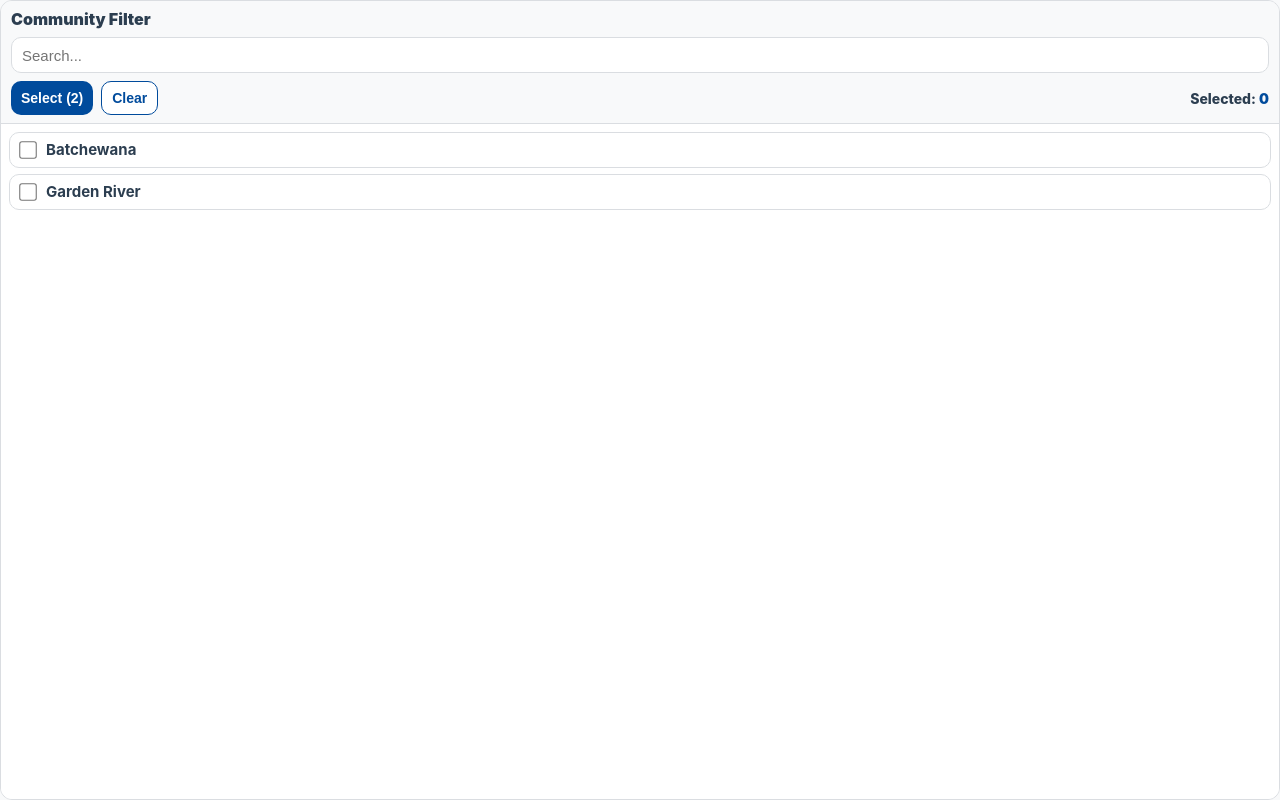
Test: CommunityFilter › shows empty message when no communities match query
Type "zzzz" into the field named "Search communities". click: (640, 55)
box: top-left (11, 37), bottom-right (1269, 73)
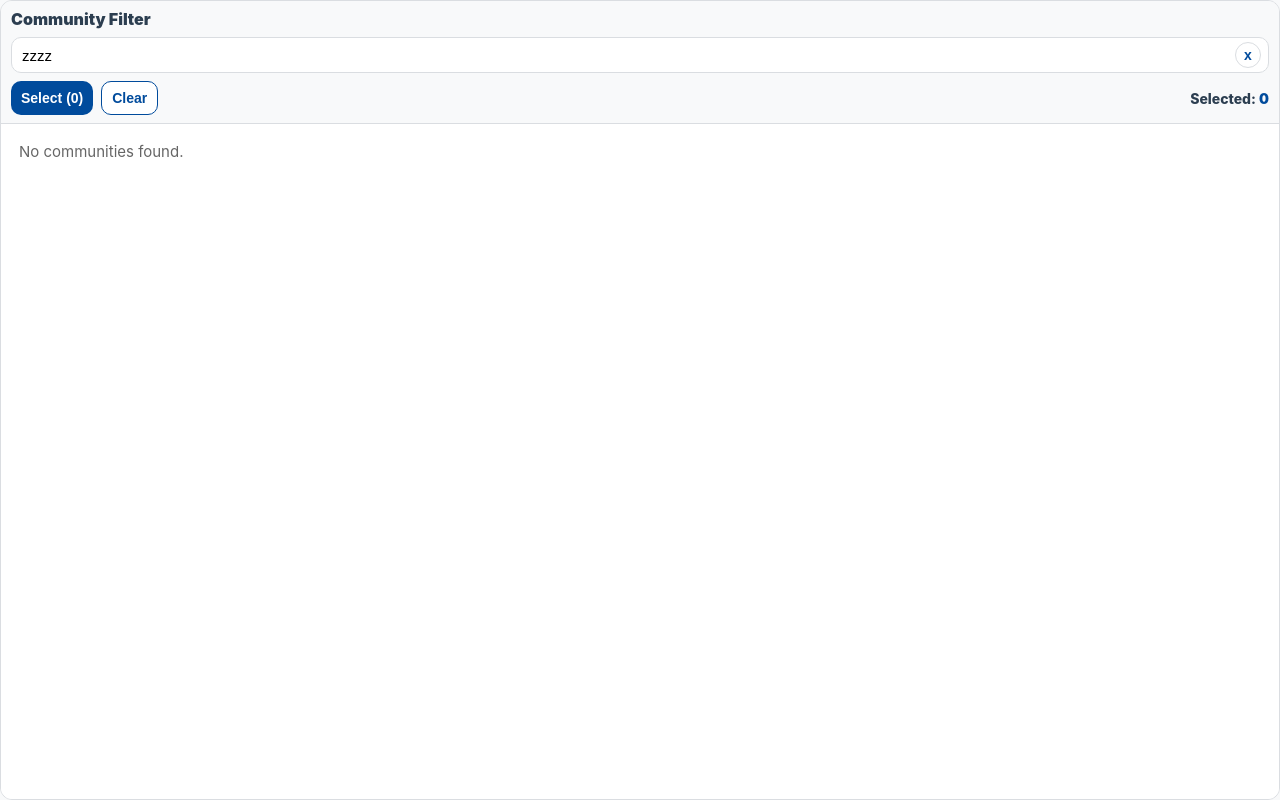
Result: the text "No communities found." is shown at top-left (19, 142), bottom-right (184, 161)
